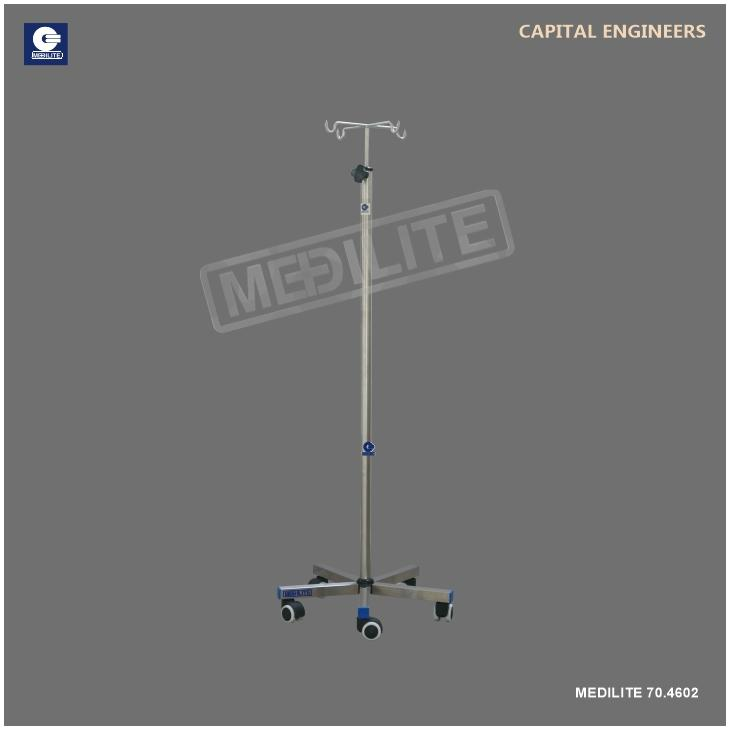Saline Stand: (274, 117, 458, 639)
